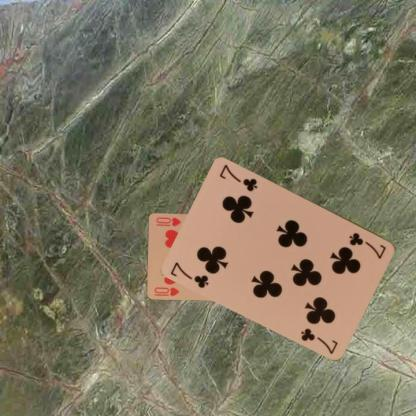10h: (152, 284, 180, 297)
7c: (168, 258, 210, 290), (346, 229, 388, 260)
